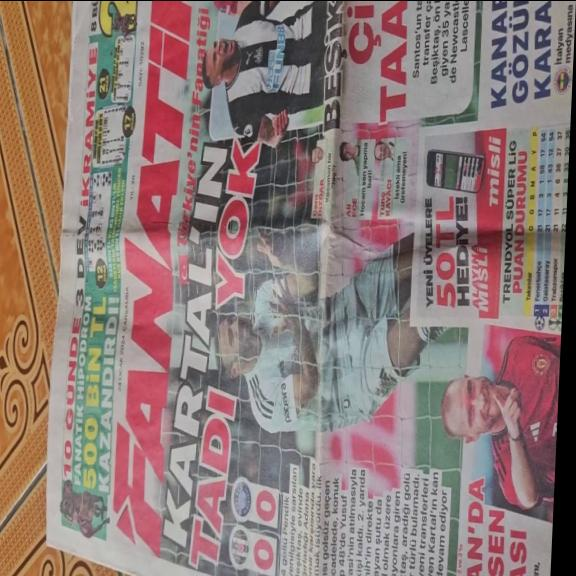Kertas: (47, 2, 351, 550), (308, 8, 573, 572)
